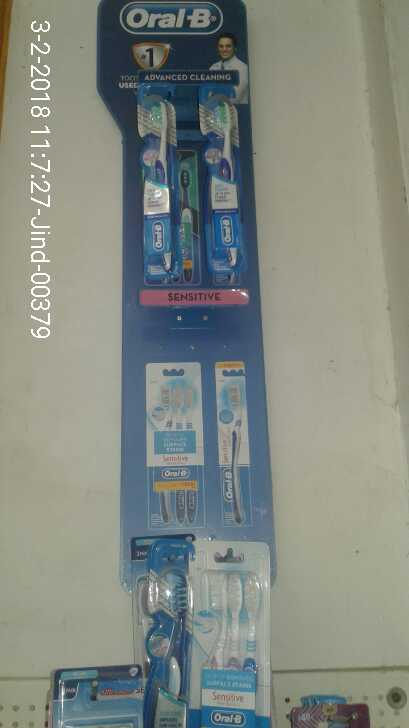oralb: (189, 86, 266, 308), (189, 563, 282, 726), (133, 98, 179, 296)
